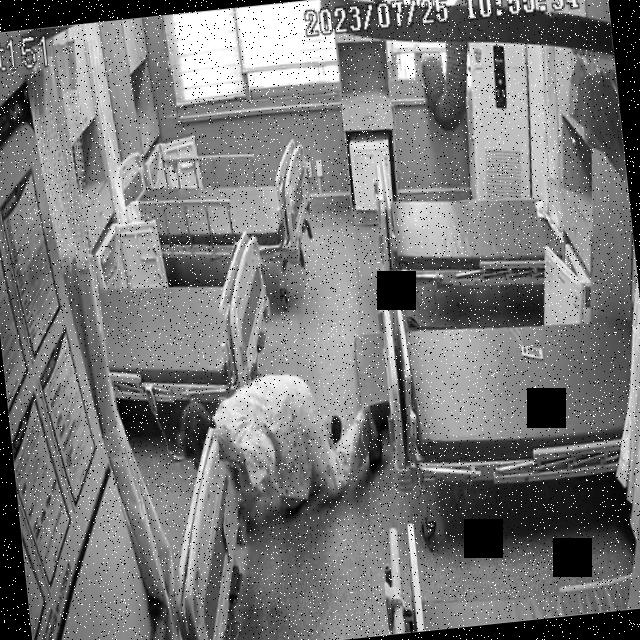bed: (397, 294, 640, 492), (93, 228, 283, 422), (117, 134, 314, 274), (374, 158, 566, 298)
fall: (171, 364, 386, 520)
patient: (172, 365, 385, 518)
